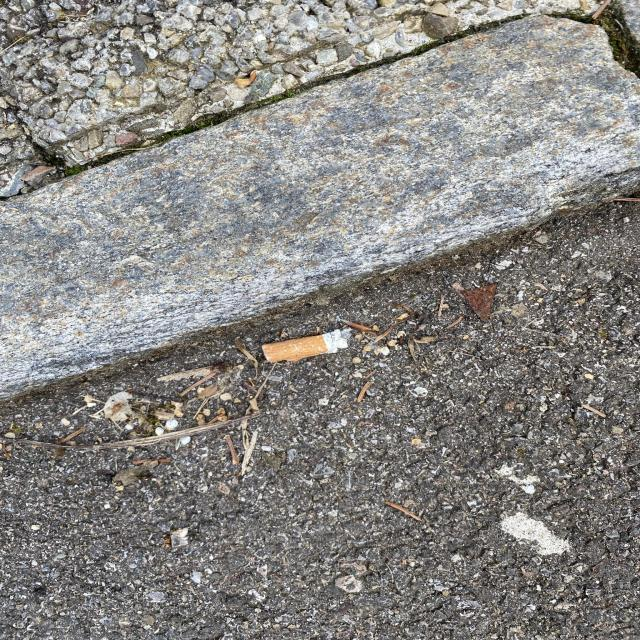other waste: (260, 329, 348, 363)
